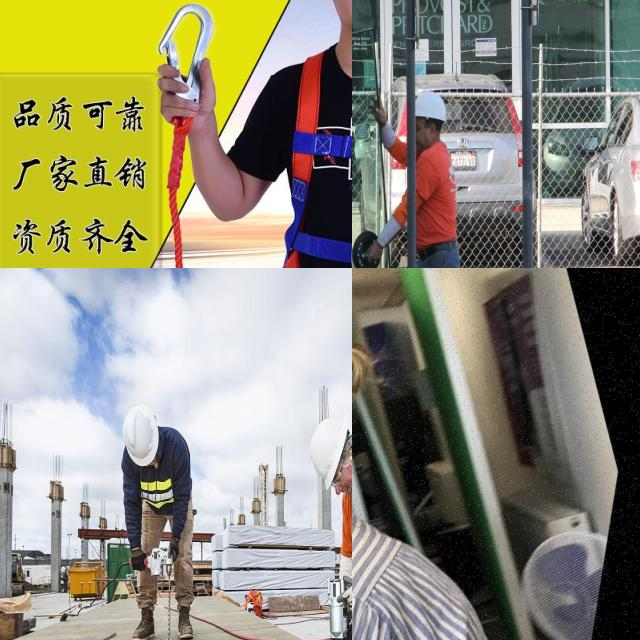Harness: (283, 52, 352, 268), (158, 0, 218, 134)
boots: (128, 604, 159, 640), (173, 604, 194, 640)
face_nomask: (404, 116, 436, 157), (333, 450, 352, 501)
glasses: (328, 465, 344, 490)
hand_glove: (129, 544, 148, 576), (163, 537, 184, 563), (344, 566, 352, 620)
hand_noglove: (364, 85, 389, 127), (364, 237, 383, 268)
head_helmet: (306, 416, 352, 490), (122, 404, 158, 469), (414, 88, 448, 121)
person: (111, 401, 198, 637), (366, 88, 466, 268), (301, 411, 352, 640)
vest: (121, 455, 188, 525)
